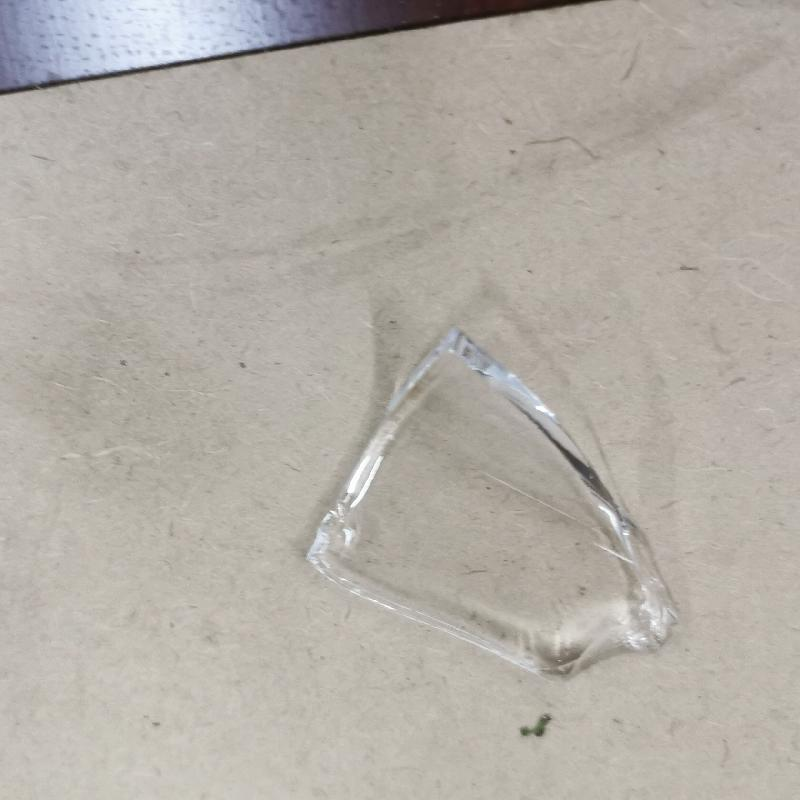glass: (294, 326, 679, 681)
